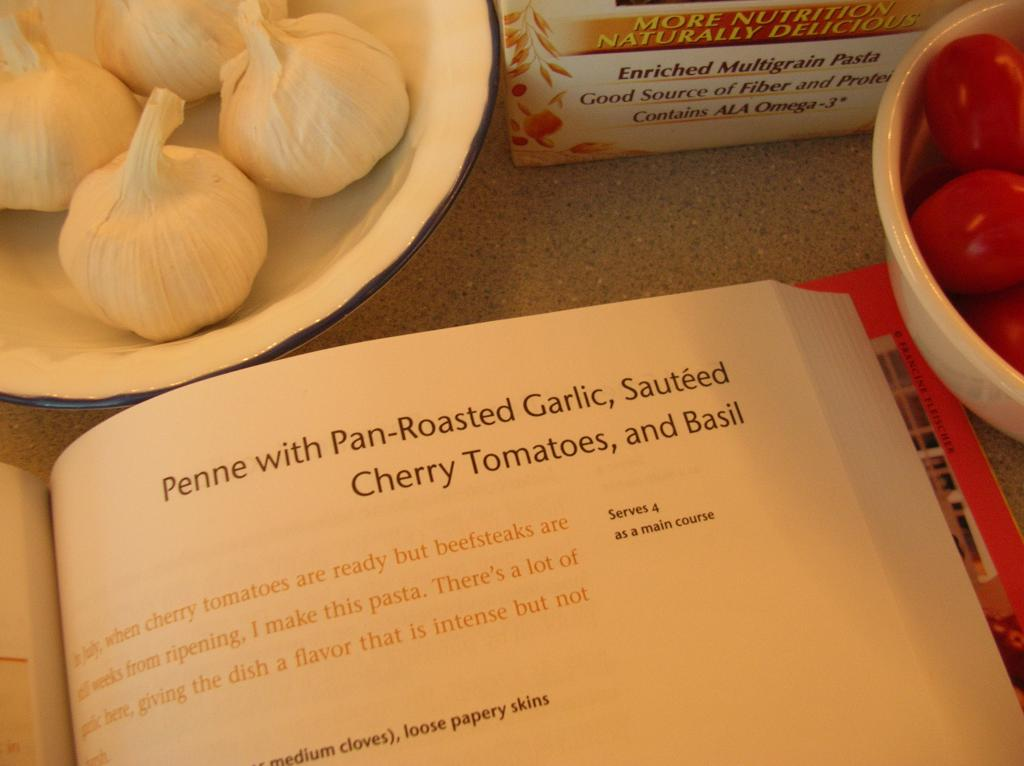Tomato: (920, 159, 1024, 296), (926, 32, 1023, 167), (960, 275, 1023, 371)
